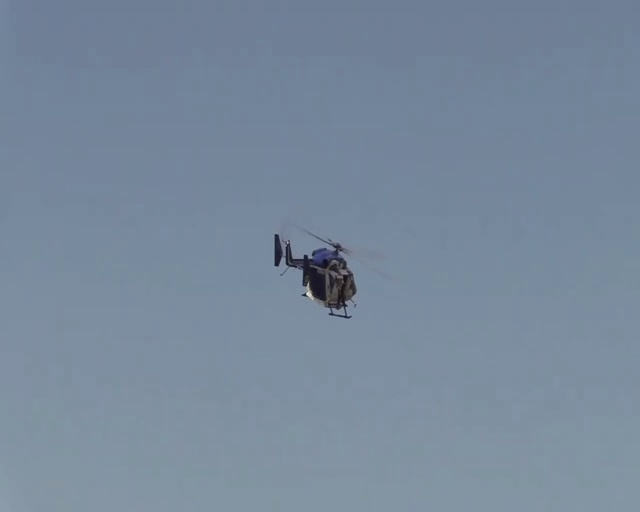HELICOPTER: (271, 222, 394, 318)
